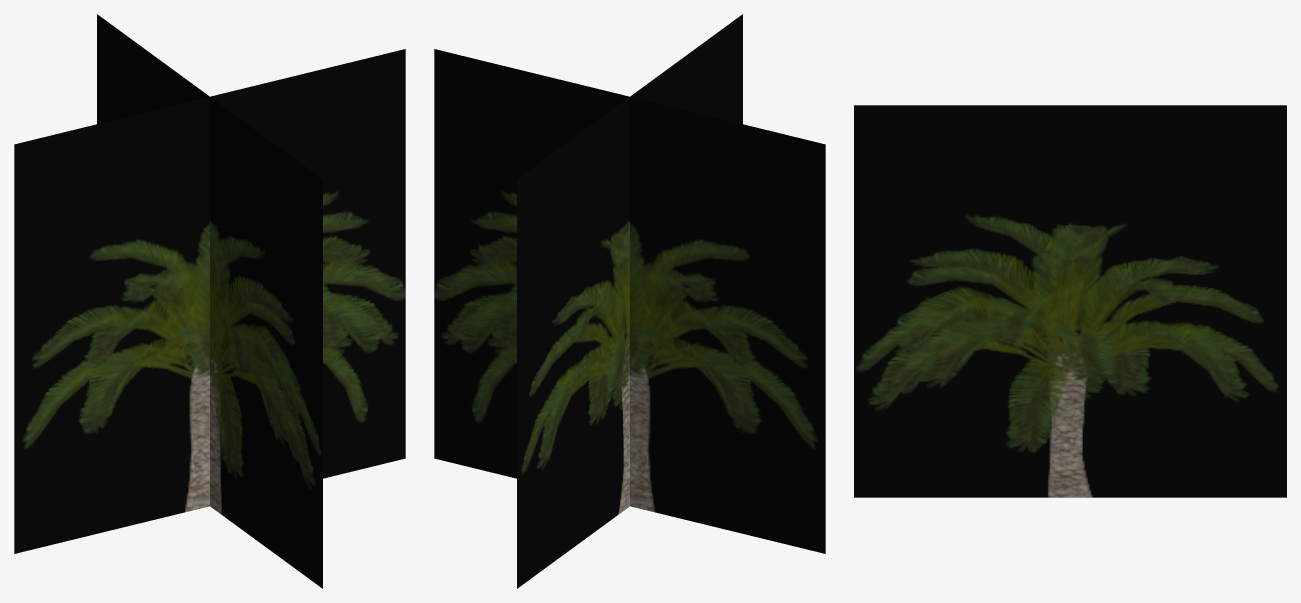
The picture shows the model from 3 angles, left to right: view 1: azimuth 30°, elevation 25°; view 2: azimuth 150°, elevation 25°; view 3: azimuth 270°, elevation 25°; orthographic projection. The views are drawn at different scales.
Visible parts, largest first — view 1: pW_LOD2; view 2: pW_LOD2; view 3: pW_LOD2.
Boxes of the visible parts, x1=… form: pW_LOD2: x1=14, y1=14, x2=405, y2=588; pW_LOD2: x1=434, y1=14, x2=825, y2=588; pW_LOD2: x1=854, y1=105, x2=1286, y2=497.
Bounding box in the file's own units: 2333 × 2333 × 2333.
